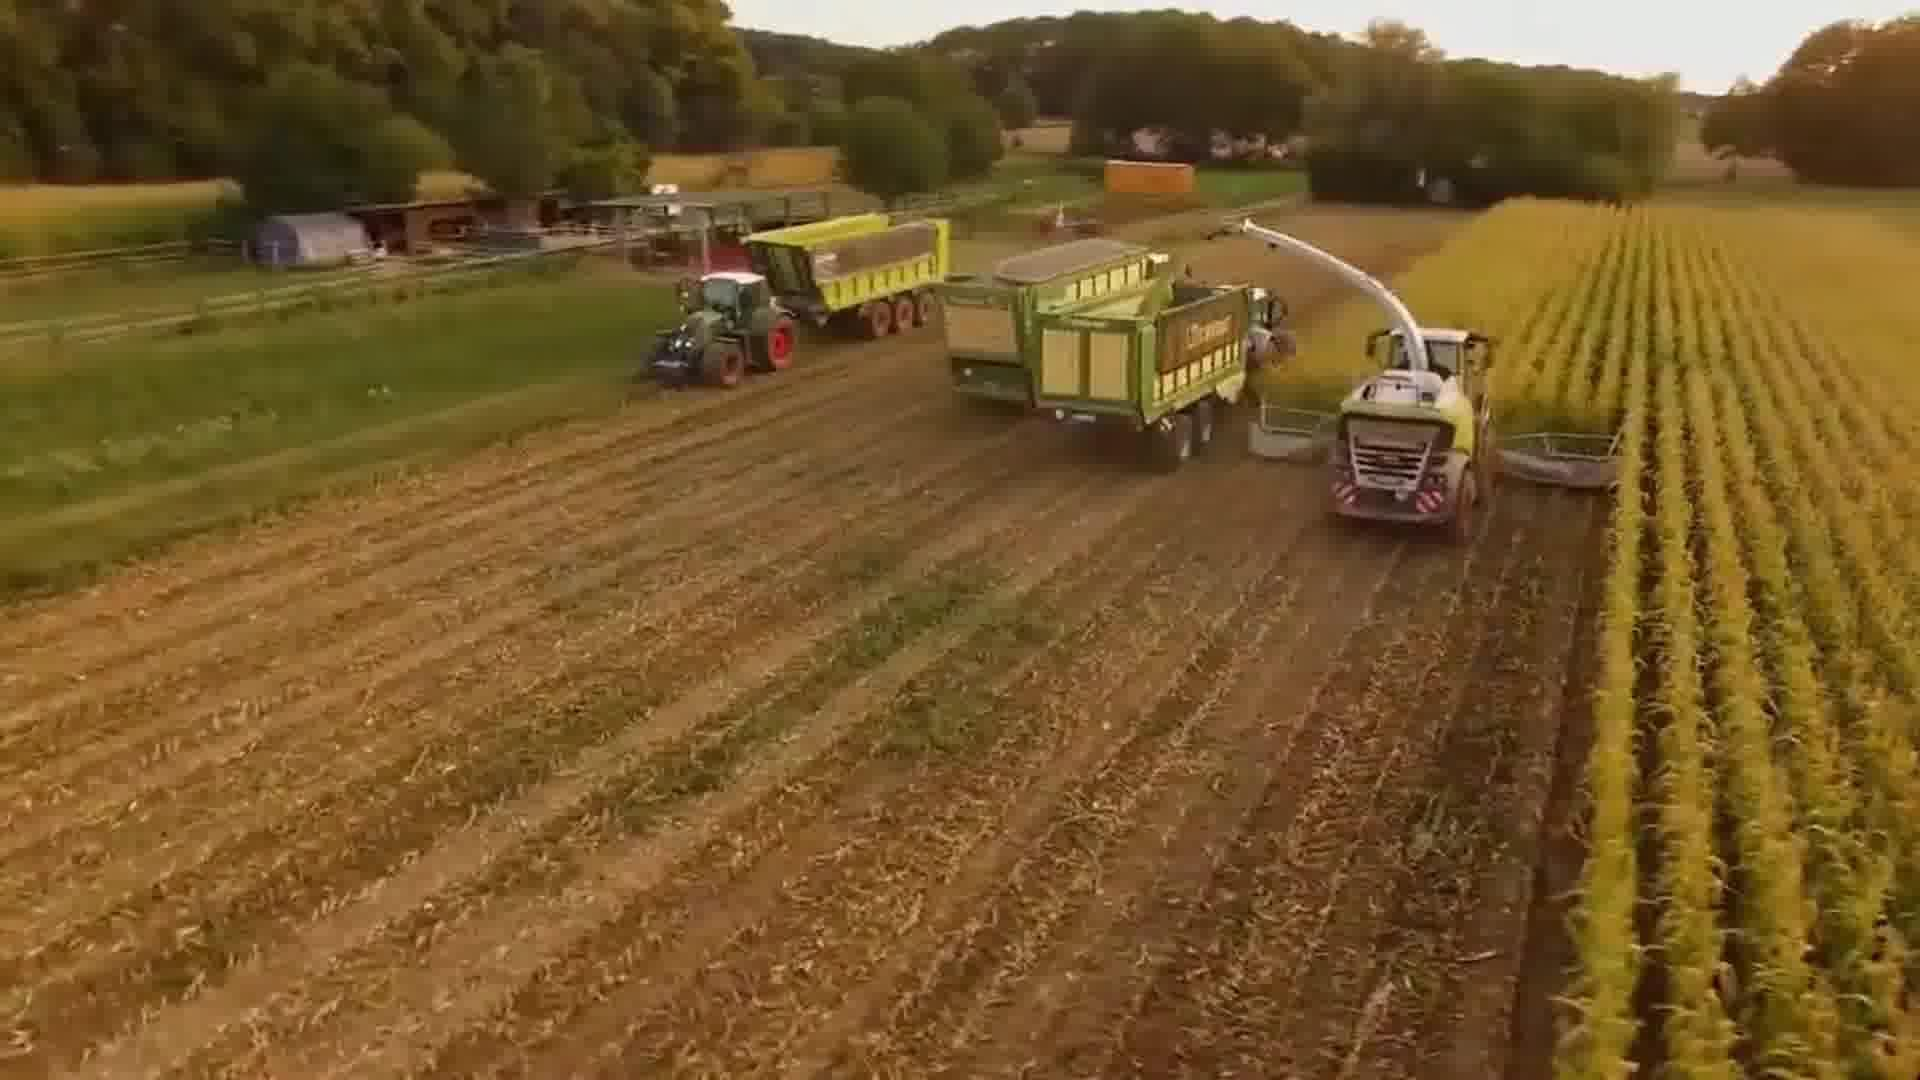combine harvester: (1203, 211, 1635, 549)
tractor: (638, 270, 800, 401), (1247, 270, 1302, 380)
trailer: (1018, 270, 1263, 463), (928, 233, 1160, 415), (733, 208, 957, 342)
